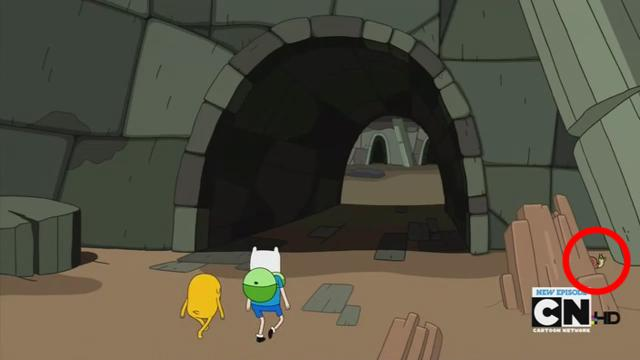snail: (588, 252, 608, 271)
